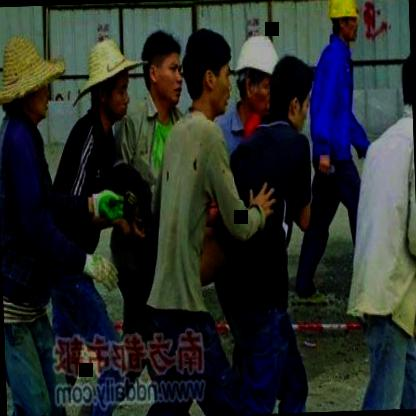helmet: (234, 31, 283, 119), (327, 0, 363, 42)
